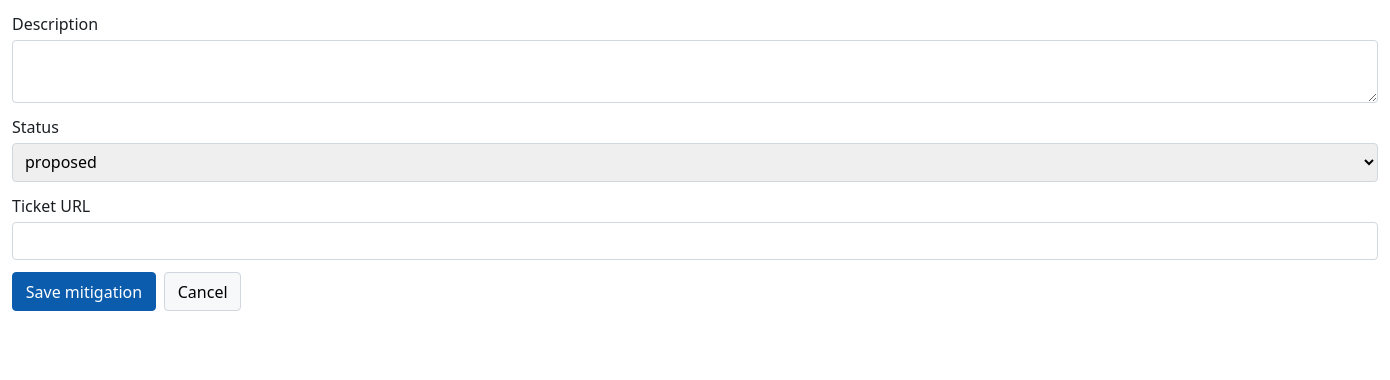
a client-side rejection › MitigationForm announces the field and focuses it
Click the button "Save mitigation".
click(84, 292)  # box [12,272,156,311]
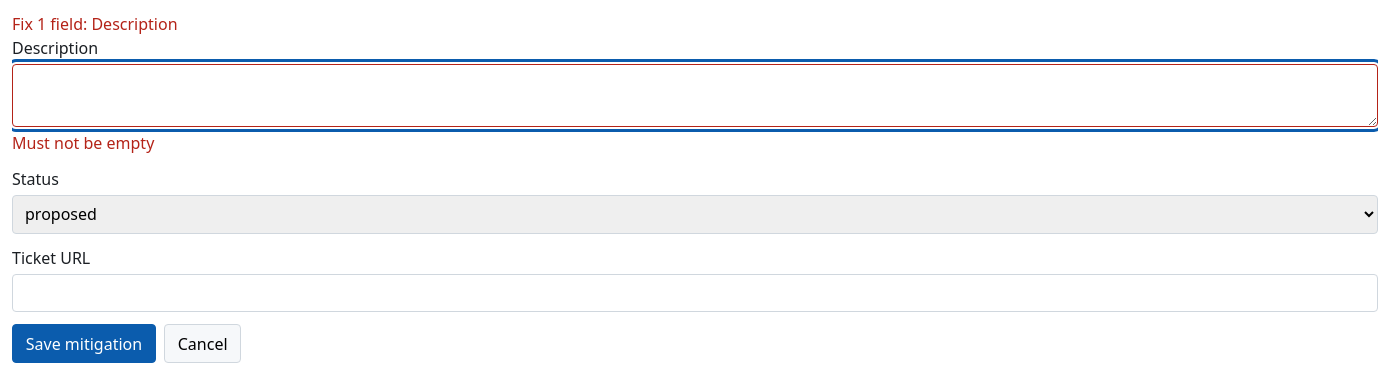
Expected: the message reads "Fix 1 field: Description", [12,13,178,35]
